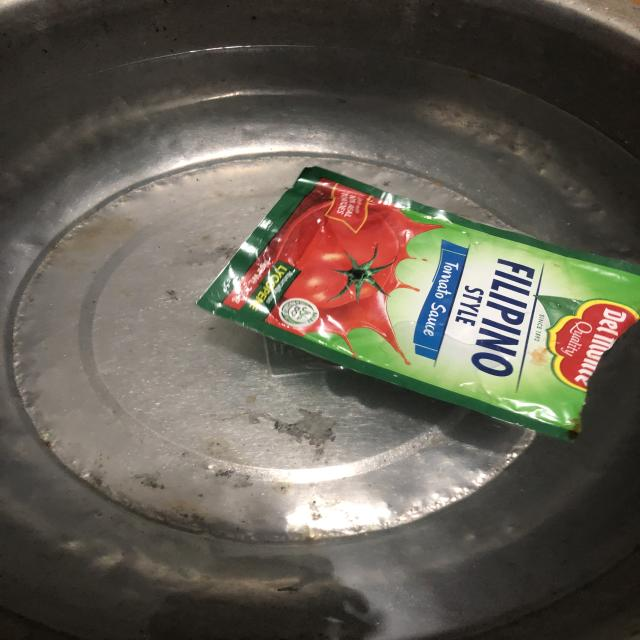Plastic Pouch: (169, 137, 640, 468)
